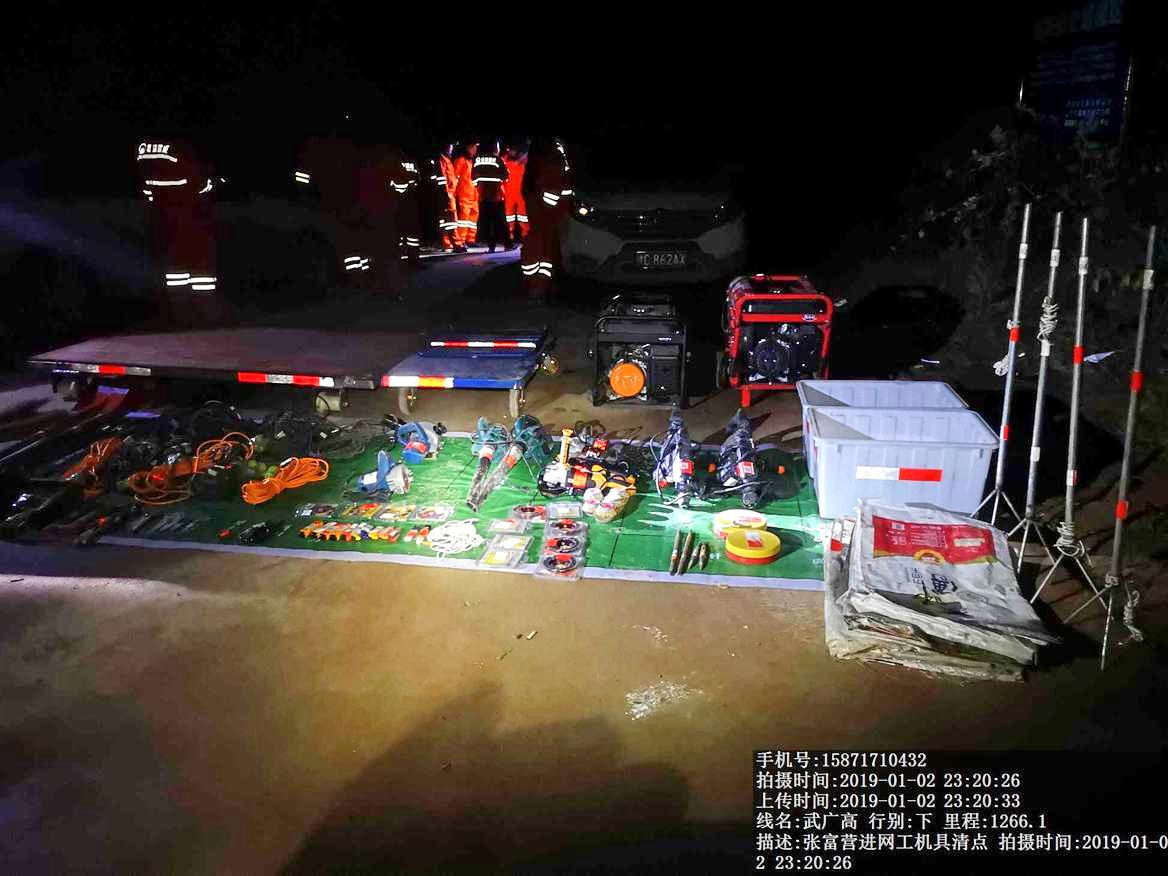BZD: (812, 493, 1049, 688)
DJ: (719, 259, 838, 403), (587, 271, 706, 414)
DX: (240, 450, 335, 501)
GFJ: (462, 422, 501, 503), (501, 422, 553, 476)
JC: (720, 527, 786, 566), (711, 503, 769, 530)
T: (803, 406, 998, 519), (791, 373, 974, 408)
TC: (379, 302, 566, 418)
